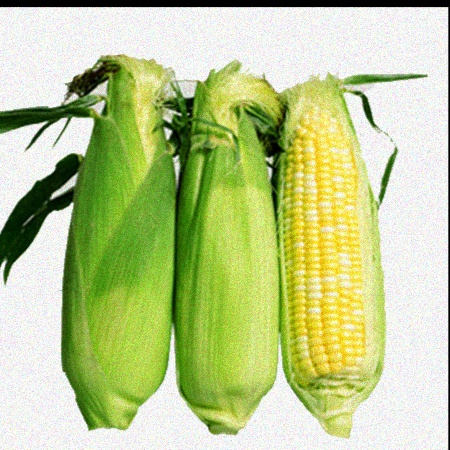corn: (277, 67, 385, 427)
corn_plant: (37, 45, 176, 432), (181, 66, 273, 425)
